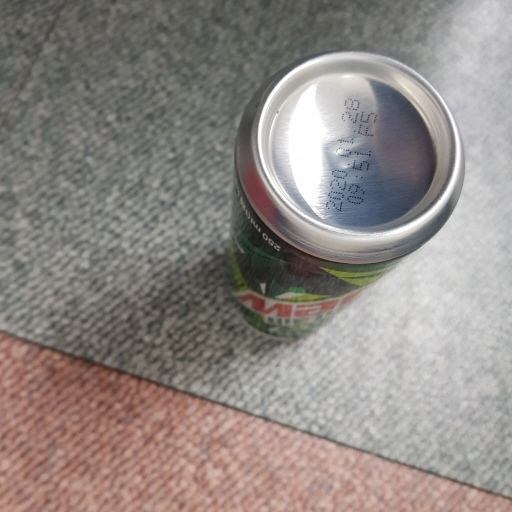Metal_0: (221, 48, 466, 353)
